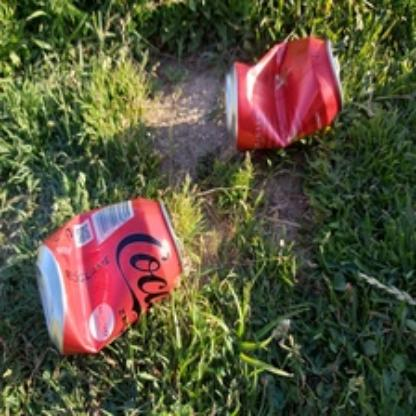Can: (36, 196, 186, 360), (223, 37, 344, 153)
